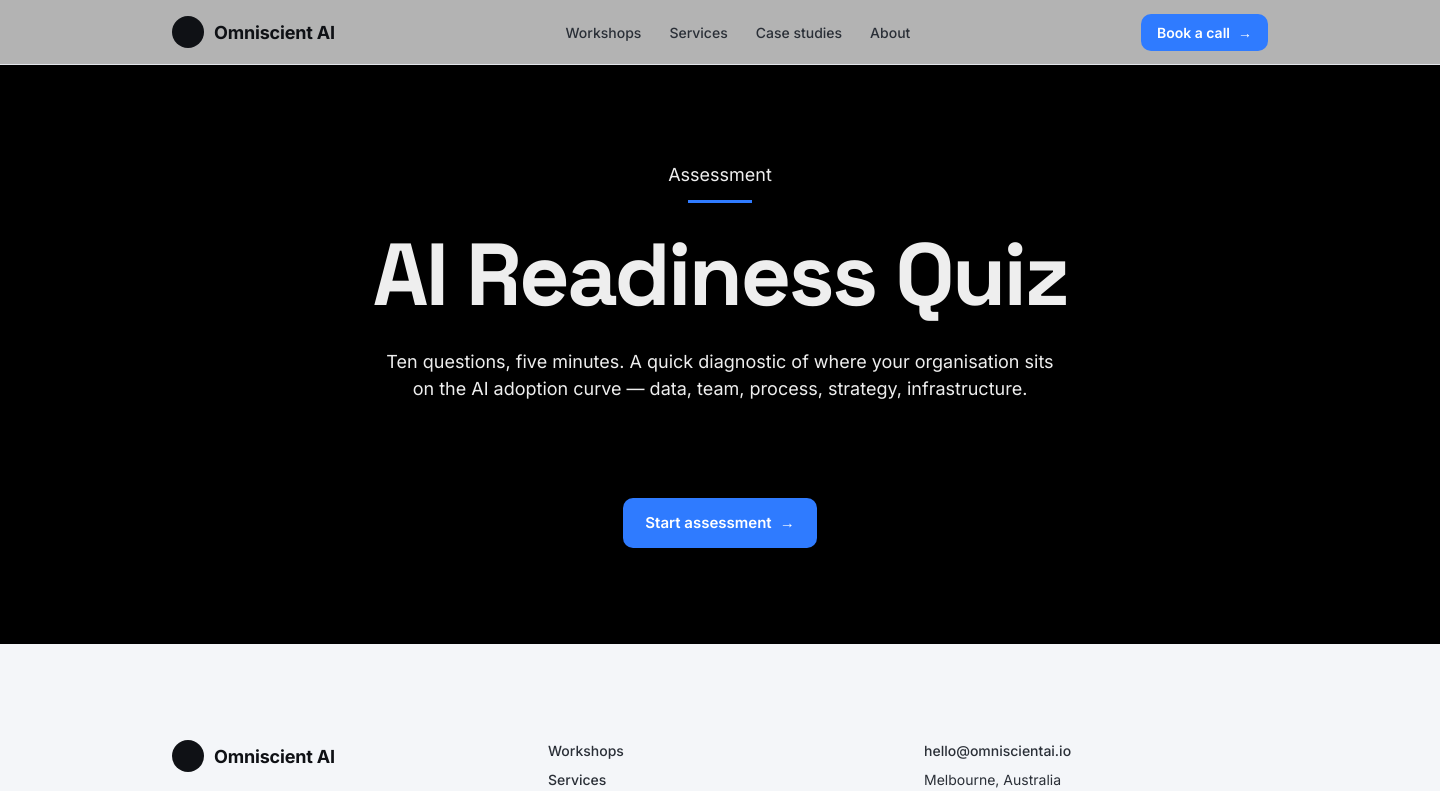
AIReadinessQuiz page › clicking Start advances to the first question
The image size is (1440, 791).
Click the button "Start assessment →": (720, 523) x1=623 y1=498 x2=817 y2=548
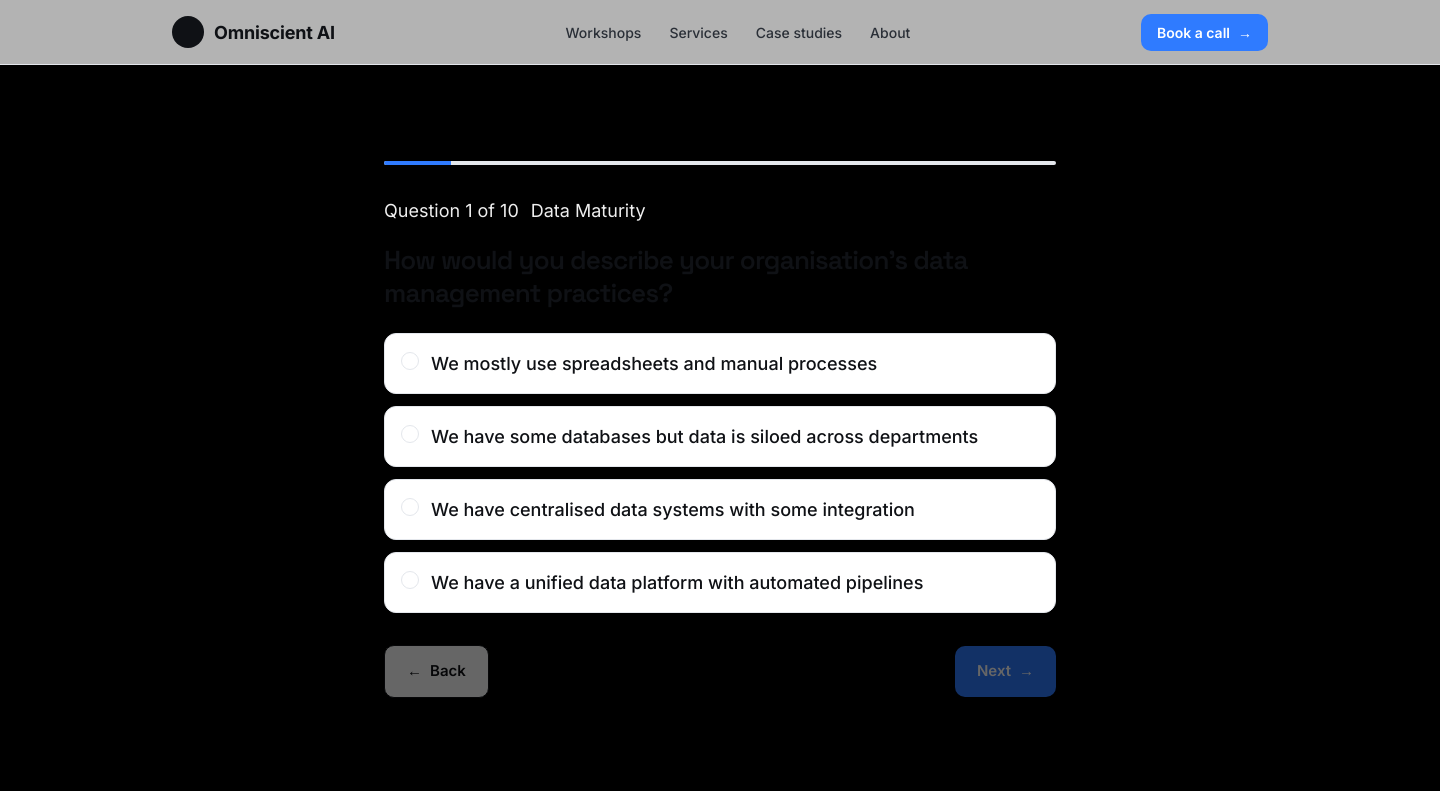
expect the text "Question 1 of 10" is shown: met, box x1=384 y1=197 x2=519 y2=224
